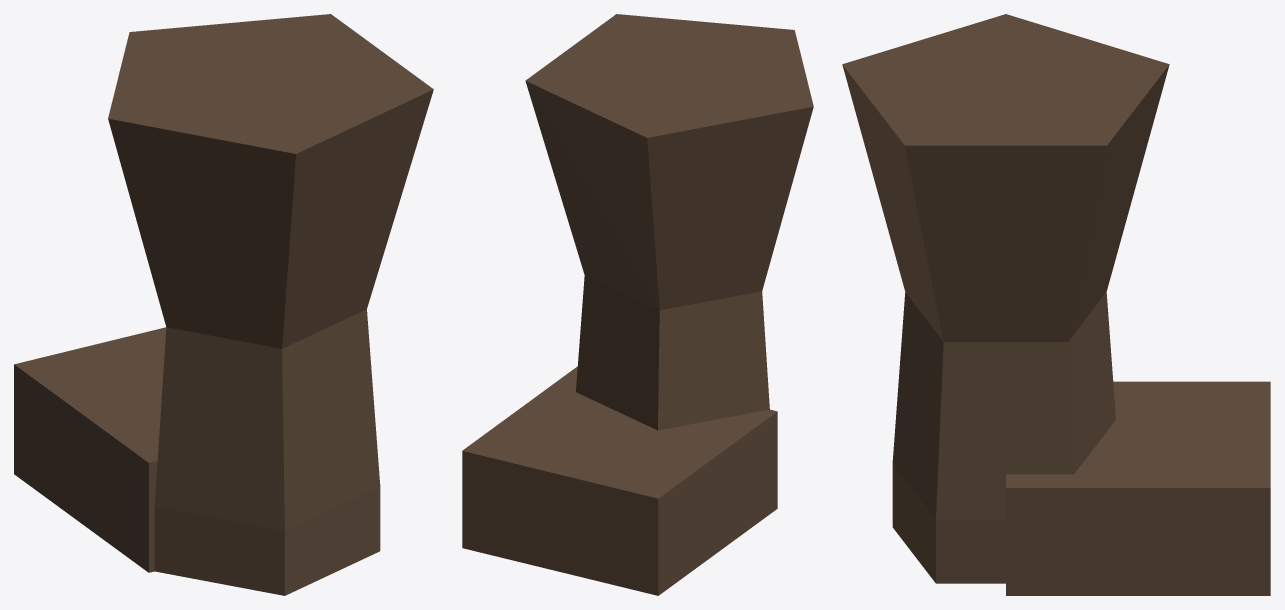
File: animal_megasloth_leg.obj
3 renders of one model, left to right at view 1: azimuth 30°, elevation 25°; view 2: azimuth 150°, elevation 25°; view 3: azimuth 270°, elevation 25°, orthographic. The views are drawn at different scales.
Parts seen in each view (by area): view 1: animal_megasloth_leg; view 2: animal_megasloth_leg; view 3: animal_megasloth_leg.
Part boxes in pixels (box(x1,y1,x2,y2)): animal_megasloth_leg: box(14, 14, 433, 595); animal_megasloth_leg: box(462, 14, 813, 595); animal_megasloth_leg: box(842, 14, 1270, 595).
Size of the model in its own units: 0.4235 by 0.6846 by 0.5829.
